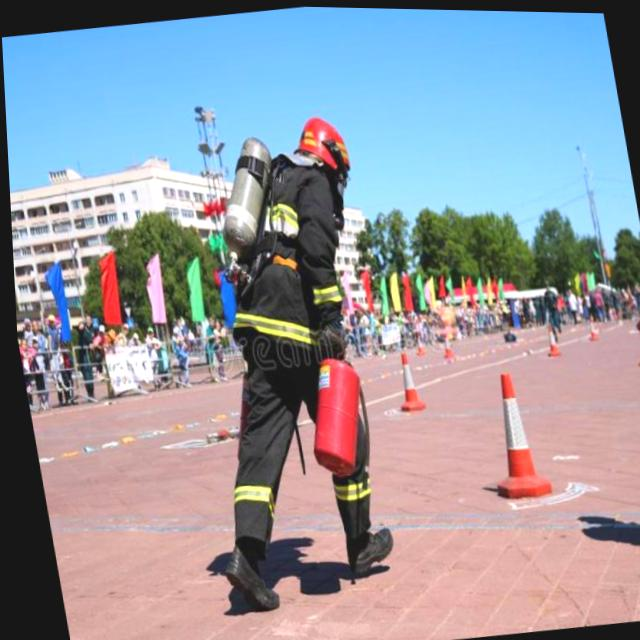FireExtinguisher: (292, 339, 381, 482)
